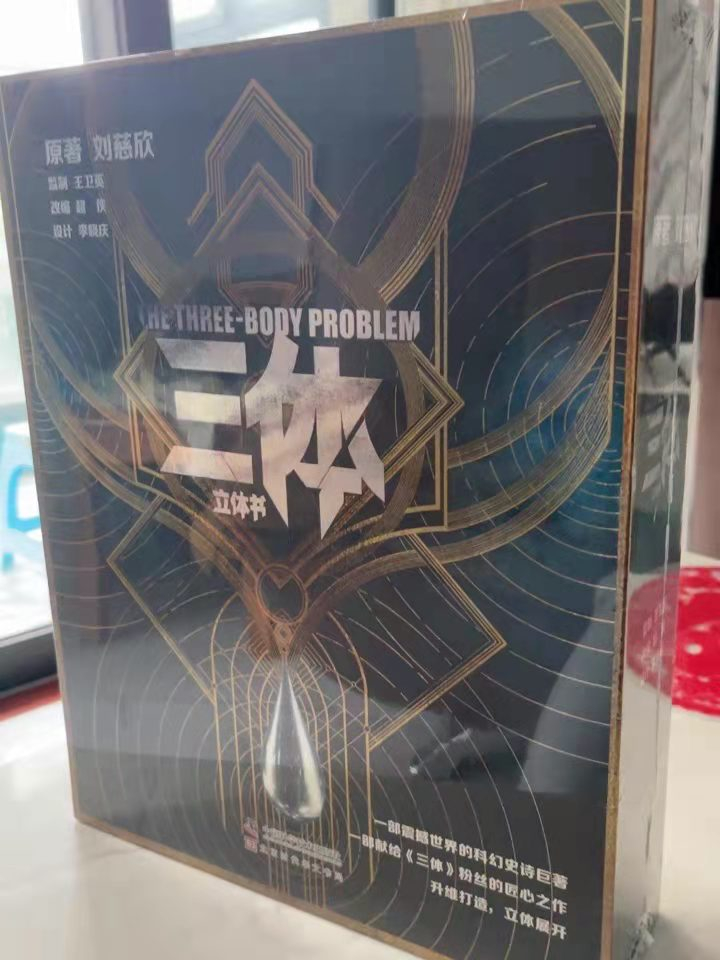book: (6, 2, 714, 960)
